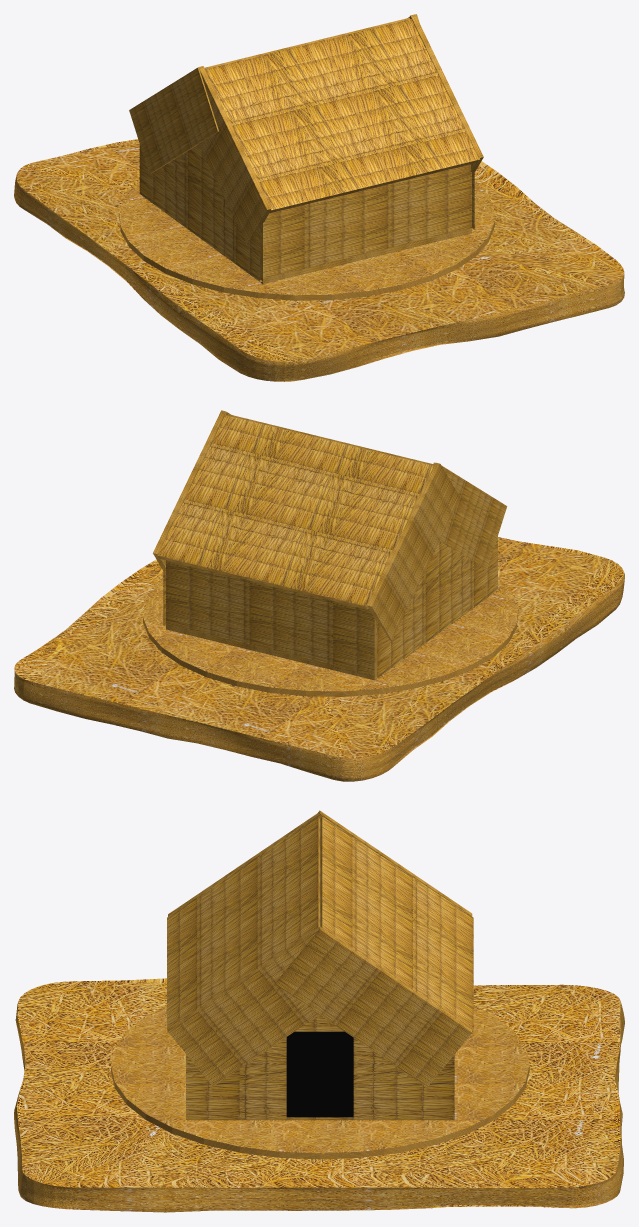
File: casaModelo2.glb
The picture shows the model from 3 angles, top to bottom: view 1: azimuth 30°, elevation 25°; view 2: azimuth 150°, elevation 25°; view 3: azimuth 270°, elevation 25°; orthographic projection. The views are drawn at different scales.
Visible parts, largest first — view 1: Cube, Cube.001, Cylinder; view 2: Cube, Cube.001, Cylinder; view 3: Cube, Cube.001, Cylinder.
Boxes of the visible parts, bbox=[...] form: Cube: bbox=[129, 14, 483, 283]; Cube.001: bbox=[14, 139, 624, 381]; Cylinder: bbox=[119, 180, 494, 300]; Cube: bbox=[153, 410, 507, 680]; Cube.001: bbox=[14, 537, 624, 781]; Cylinder: bbox=[143, 576, 518, 696]; Cube: bbox=[167, 810, 473, 1120]; Cube.001: bbox=[14, 978, 624, 1212]; Cylinder: bbox=[111, 1005, 529, 1159].
Bounding box in the file's own units: 7.35 × 3.84 × 9.1.
Materials: 3 (2 with a texture image).
